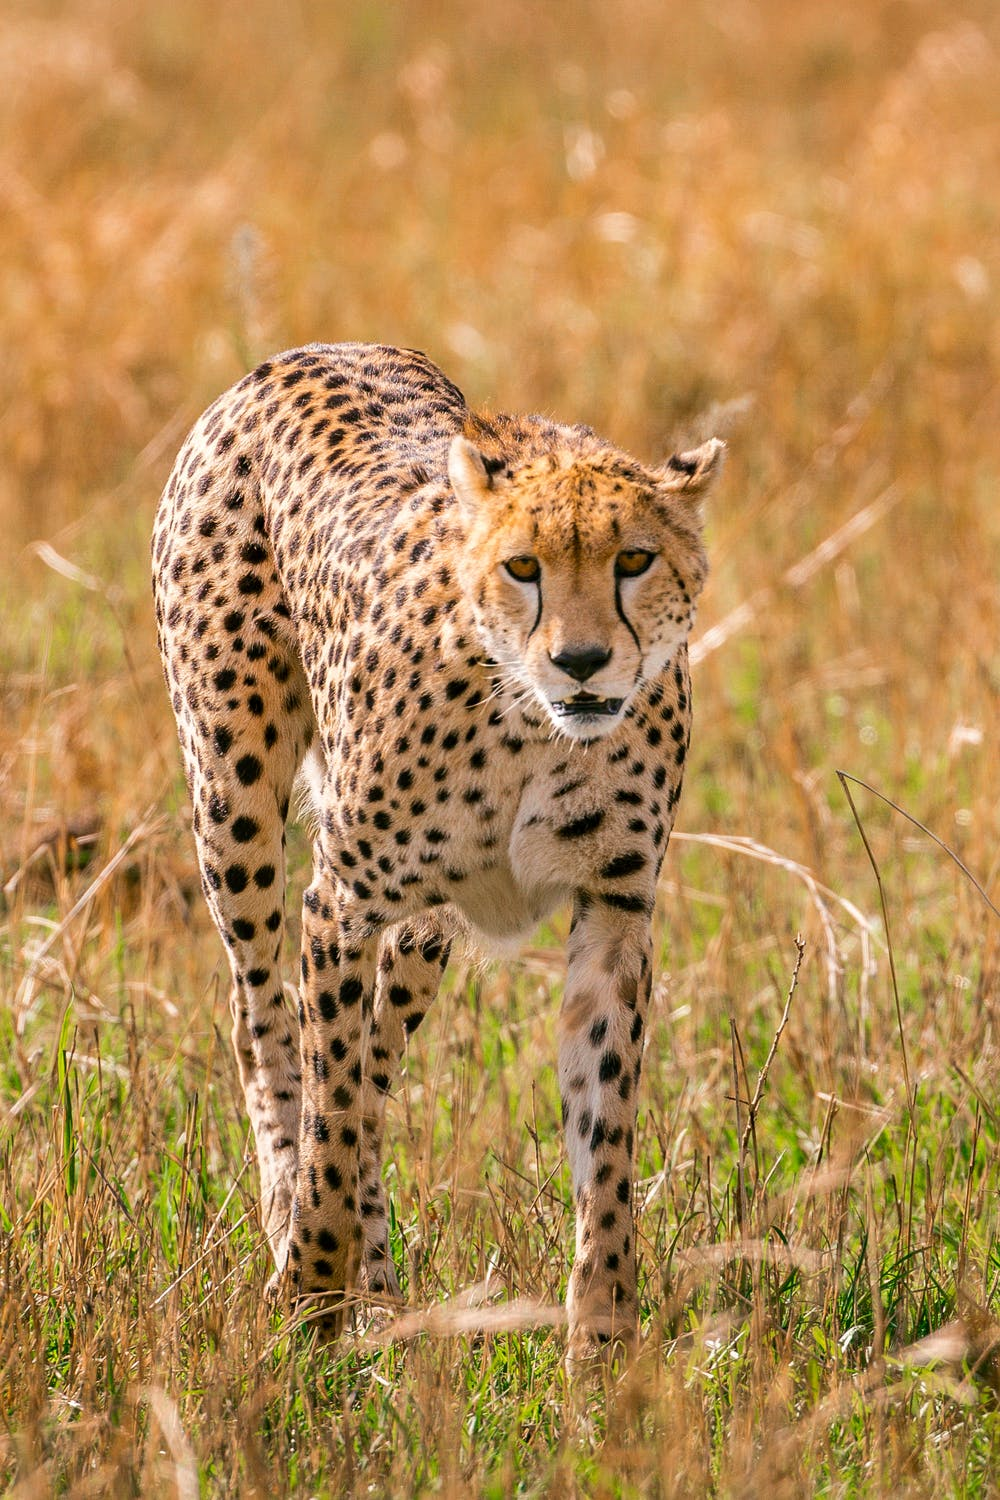cheetah: (421, 407, 765, 754)
